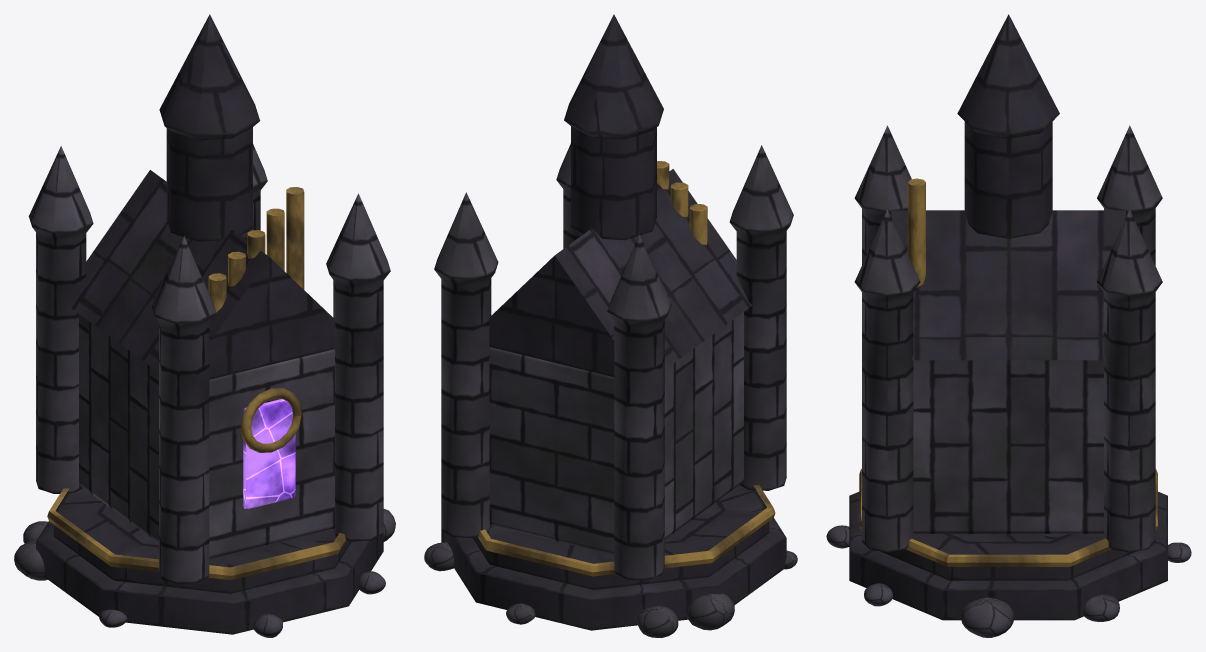
Rendered from cathedral.glb.
The picture shows the model from 3 angles, left to right: view 1: azimuth 30°, elevation 25°; view 2: azimuth 150°, elevation 25°; view 3: azimuth 270°, elevation 25°; orthographic projection.
Visible parts, largest first — view 1: Base; view 2: Base; view 3: Base.
Part boxes in pixels (x1,y1,x2,y2): Base: [14, 14, 395, 637]; Base: [424, 14, 797, 637]; Base: [826, 14, 1191, 637].
Size of the model in its own units: 1.01 by 1.65 by 0.9946.
Materials: 5 (5 with a texture image).
